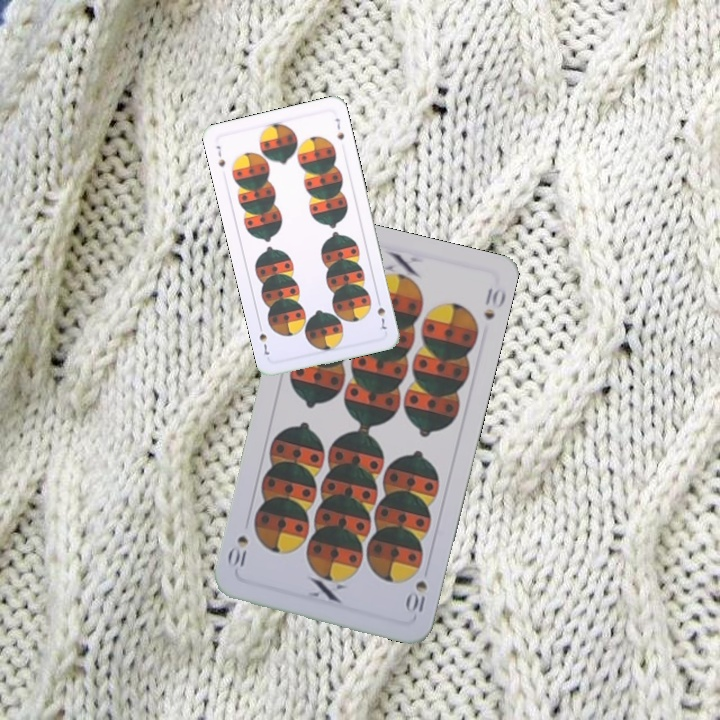S10: (402, 576, 430, 615)
S7: (373, 294, 389, 332), (212, 141, 228, 169)
